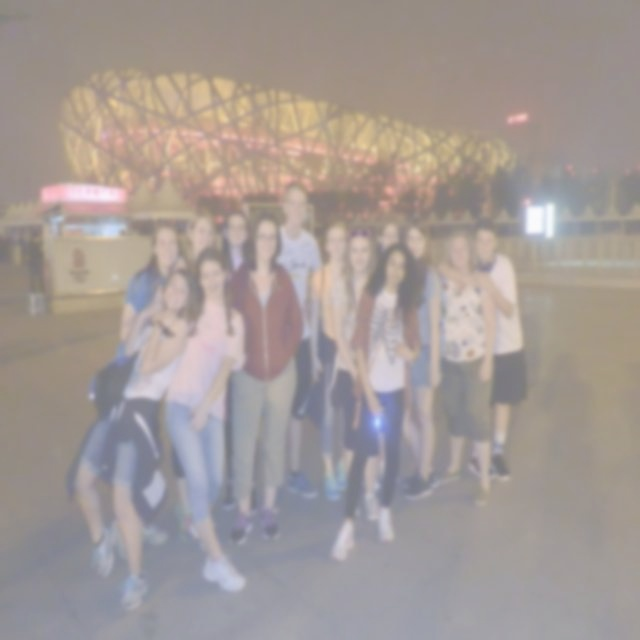pessoa: (72, 267, 208, 611), (146, 242, 250, 596), (324, 237, 428, 560), (224, 207, 307, 548), (438, 228, 498, 507), (466, 216, 528, 482), (328, 227, 383, 524), (275, 179, 325, 500), (171, 207, 217, 543), (220, 211, 261, 514), (308, 220, 349, 500), (402, 217, 442, 500), (118, 222, 181, 344), (25, 229, 48, 297), (375, 216, 403, 253), (0, 230, 26, 268), (115, 226, 128, 237)
